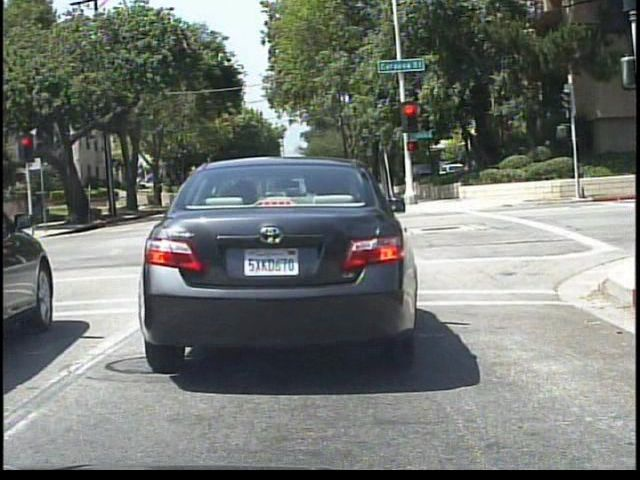person: (28, 184, 48, 231)
